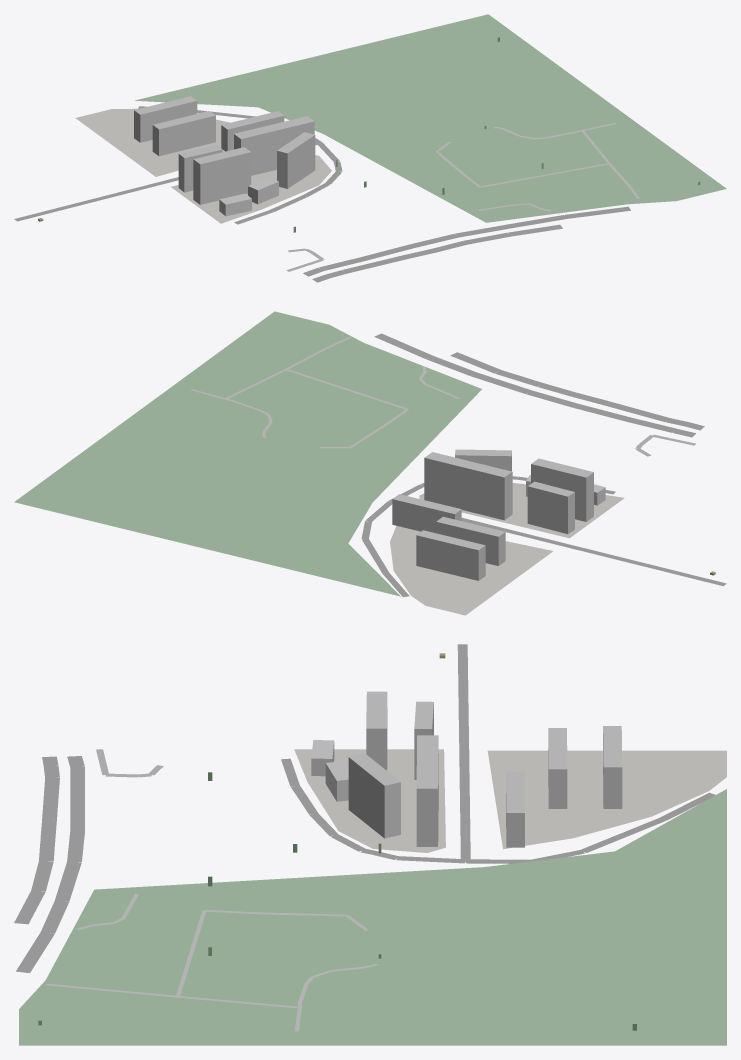
The picture shows the model from 3 angles, top to bottom: view 1: azimuth 30°, elevation 25°; view 2: azimuth 150°, elevation 25°; view 3: azimuth 270°, elevation 25°; orthographic projection. The views are drawn at different scales.
Size of the model in its own units: 680 by 49.03 by 504.
